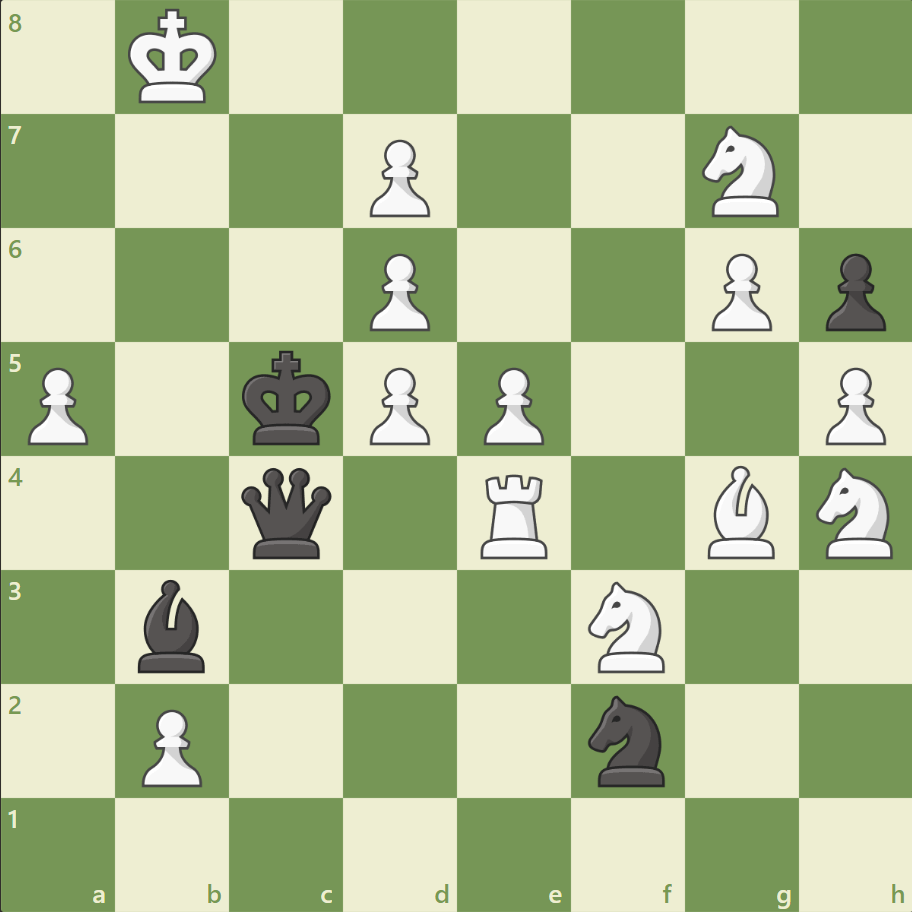B: (698, 460, 782, 563)
K: (124, 4, 224, 112)
N: (806, 461, 903, 564), (692, 121, 789, 223), (579, 575, 676, 677)
P: (701, 246, 776, 337), (20, 359, 95, 450), (474, 359, 549, 450), (133, 700, 208, 791), (361, 132, 435, 223), (361, 246, 435, 337), (361, 359, 435, 450), (815, 359, 889, 450)
R: (473, 466, 556, 563)
b: (131, 574, 215, 676)
k: (238, 344, 338, 452)
n: (579, 688, 676, 791)
p: (815, 246, 889, 337)
q: (237, 463, 336, 562)
